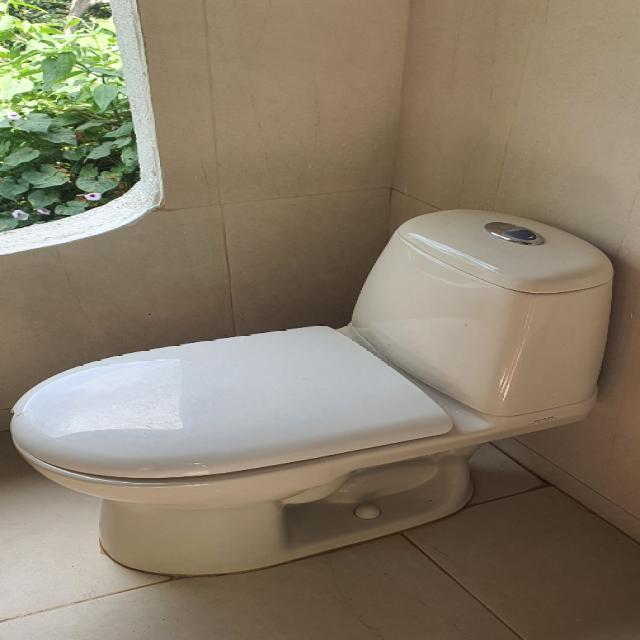toilet: (9, 208, 614, 576)
